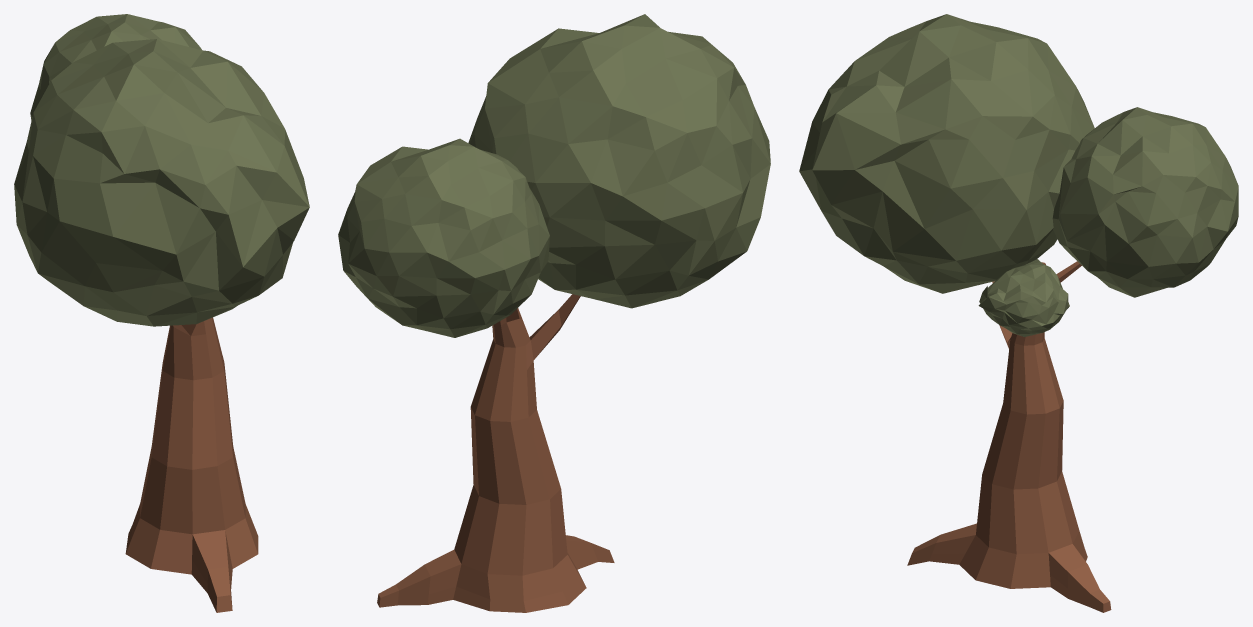
The model's file is arvore.fbx.
The picture shows the model from 3 angles, left to right: view 1: azimuth 30°, elevation 25°; view 2: azimuth 150°, elevation 25°; view 3: azimuth 270°, elevation 25°; orthographic projection. The views are drawn at different scales.
Visible parts, largest first — view 1: Icosphere.007, Circle.002, Icosphere.008; view 2: Icosphere.007, Icosphere.008, Circle.002; view 3: Icosphere.007, Icosphere.008, Circle.002, Icosphere.009.
Boxes of the visible parts, bbox=[...] form: Icosphere.007: bbox=[14, 39, 309, 326]; Circle.002: bbox=[125, 317, 258, 612]; Icosphere.008: bbox=[30, 14, 201, 120]; Icosphere.007: bbox=[468, 14, 770, 308]; Icosphere.008: bbox=[338, 138, 549, 337]; Circle.002: bbox=[377, 294, 614, 612]; Icosphere.007: bbox=[799, 14, 1094, 293]; Icosphere.008: bbox=[1052, 107, 1238, 297]; Circle.002: bbox=[907, 261, 1111, 612]; Icosphere.009: bbox=[978, 259, 1069, 336].
Bounding box in the file's own units: 1100 × 1984 × 1528.
